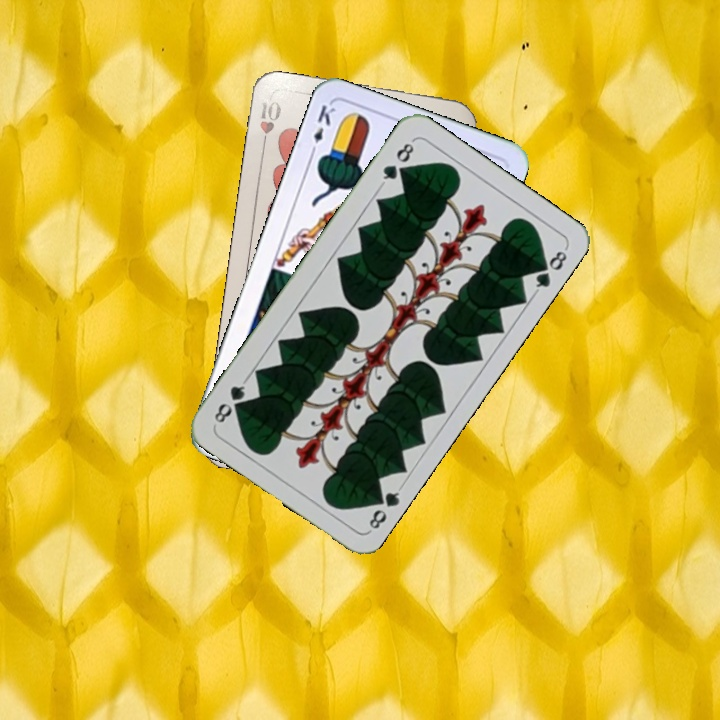EK: (306, 101, 338, 159)
G8: (365, 482, 405, 535), (377, 136, 417, 188)
H10: (256, 97, 284, 154)
